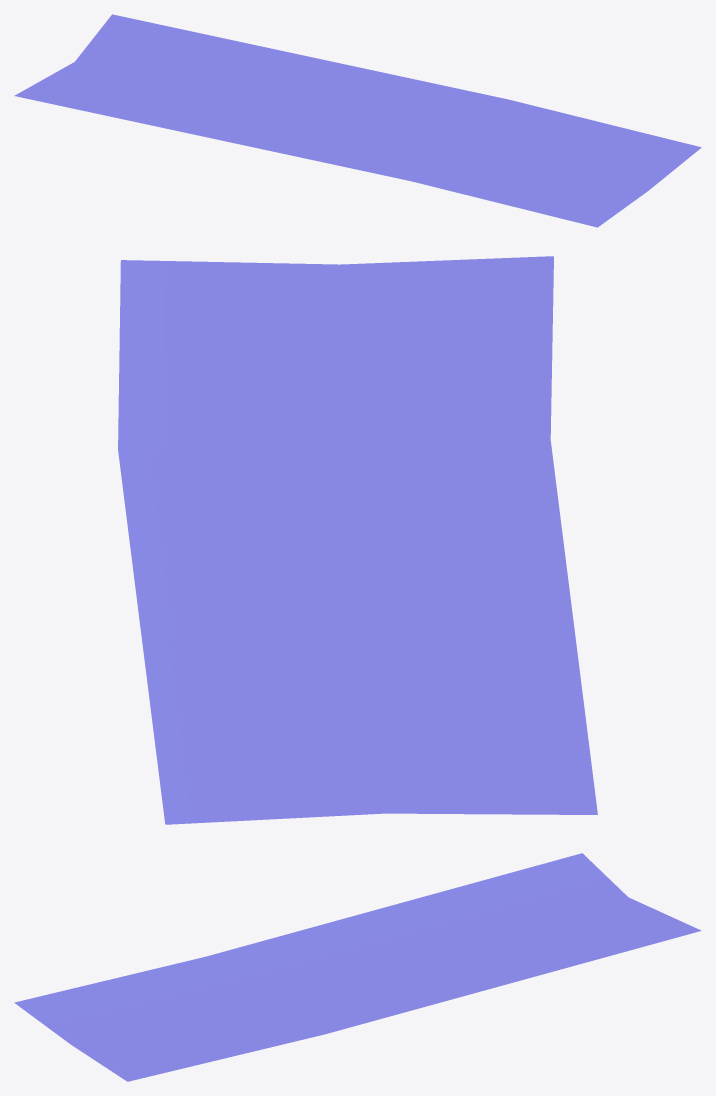
The model's file is track_la_coll_road_12.fbx.
3 renders of one model, top to bottom at view 1: azimuth 30°, elevation 25°; view 2: azimuth 150°, elevation 25°; view 3: azimuth 270°, elevation 25°, orthographic. The views are drawn at different scales.
Visible parts, largest first — view 1: track_la_coll_road_12; view 2: track_la_coll_road_12; view 3: track_la_coll_road_12.
Boxes of the visible parts, bbox=[...] form: track_la_coll_road_12: bbox=[14, 14, 701, 227]; track_la_coll_road_12: bbox=[118, 256, 597, 824]; track_la_coll_road_12: bbox=[14, 853, 701, 1081].
Size of the model in its own units: 96.3 by 0.5887 by 122.
